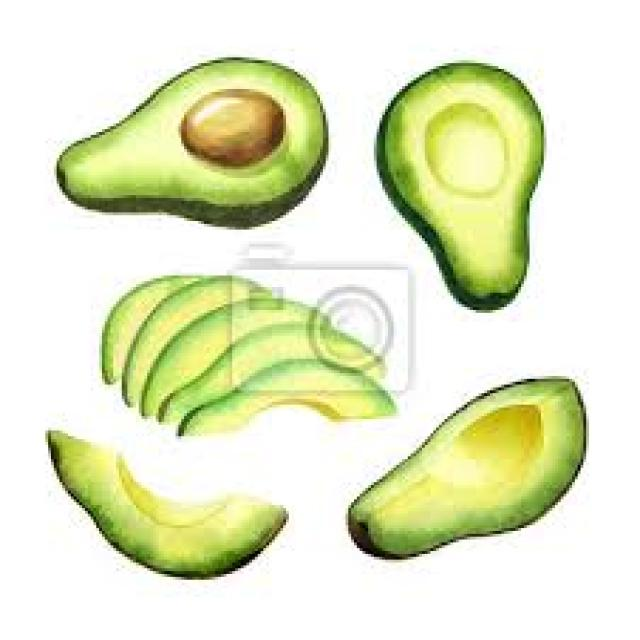avocado: (84, 263, 425, 460), (358, 40, 591, 324), (35, 26, 338, 235), (27, 389, 308, 594), (352, 360, 604, 586)
